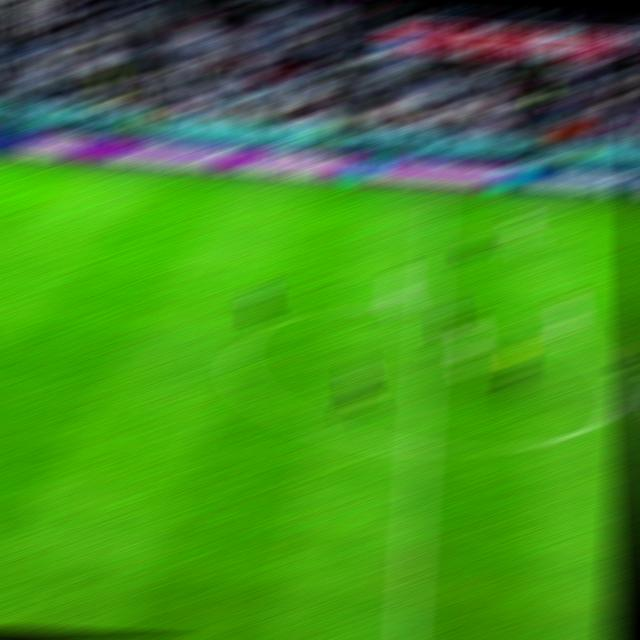halfcircle_bottom: (403, 440, 434, 457)
halfcircle_top: (414, 301, 441, 318)
midline_top_intersection: (424, 191, 448, 205)
